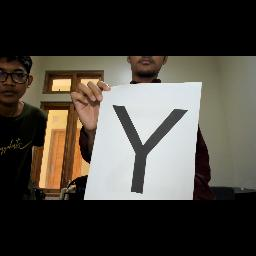y: (108, 100, 192, 200)
